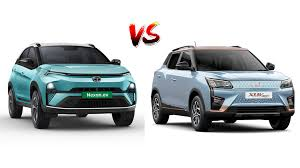XUV 400: (6, 42, 137, 130)
